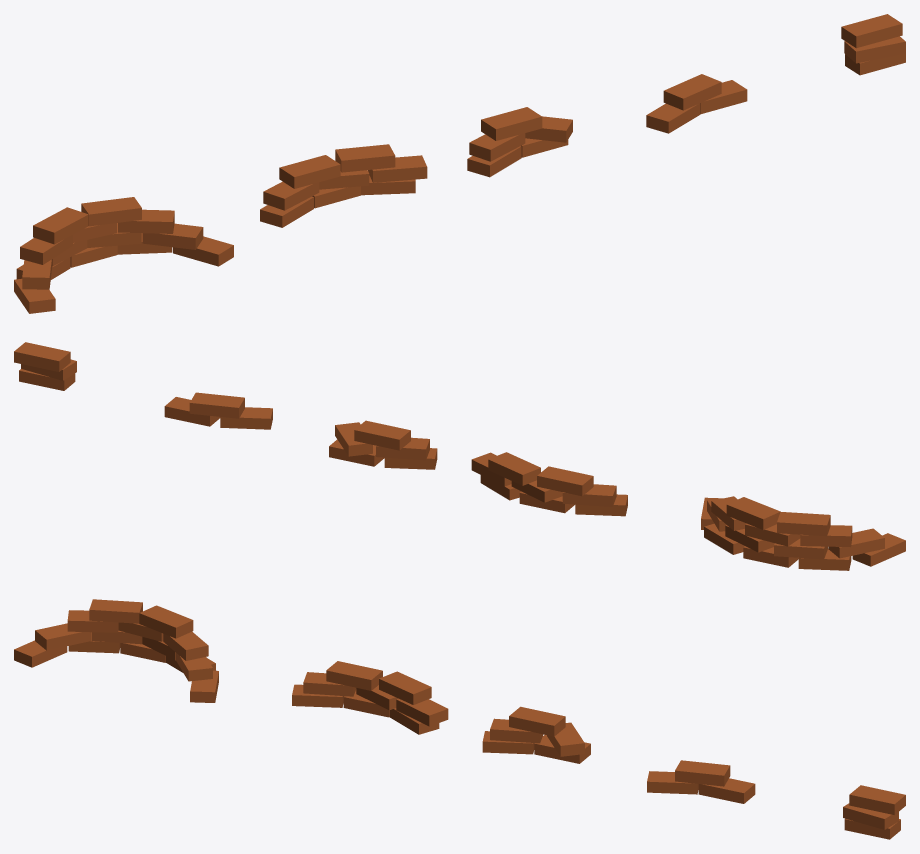
Rendered from Sandbags.FBX.
3 renders of one model, top to bottom at view 1: azimuth 30°, elevation 25°; view 2: azimuth 150°, elevation 25°; view 3: azimuth 330°, elevation 25°, orthographic. The views are drawn at different scales.
Visible parts, largest first — view 1: sandbags_01, sandbags_02, sandbags_03, sandbags_04, sandbags_05; view 2: sandbags_01, sandbags_02, sandbags_03, sandbags_04, sandbags_05; view 3: sandbags_01, sandbags_02, sandbags_03, sandbags_04, sandbags_05.
Part boxes in pixels (x1,y1,x2,y2): sandbags_01: (14,197,233,313); sandbags_02: (260,144,427,227); sandbags_03: (467,107,572,177); sandbags_04: (646,74,747,133); sandbags_05: (841,14,905,75); sandbags_01: (701,496,905,570); sandbags_02: (471,452,627,516); sandbags_03: (329,420,437,469); sandbags_04: (164,392,272,429); sandbags_05: (14,342,76,390); sandbags_01: (14,599,218,702); sandbags_02: (292,661,448,734); sandbags_03: (482,706,590,763); sandbags_04: (647,760,755,803); sandbags_05: (843,785,905,839).
Size of what is drawn, in the model's own units: 2168 by 107 by 252.
